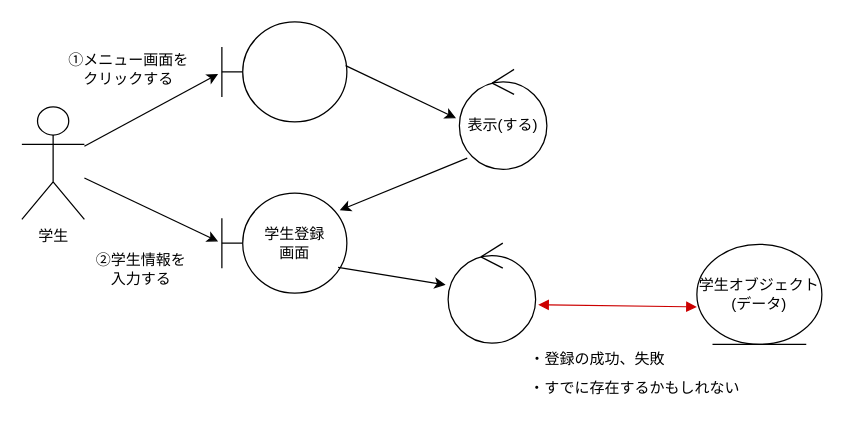
Image size: 844x429. Some labels were removed from this diagram. The shapes that lost their labels are listed below. From the top down, each one's centre as x and y in pixels, then its label:
At (284,71): "メニュー画面".
At (491,292): "学生情報 登録".
